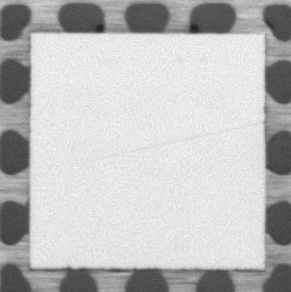DIE_CRACK: (90, 121, 268, 161)
